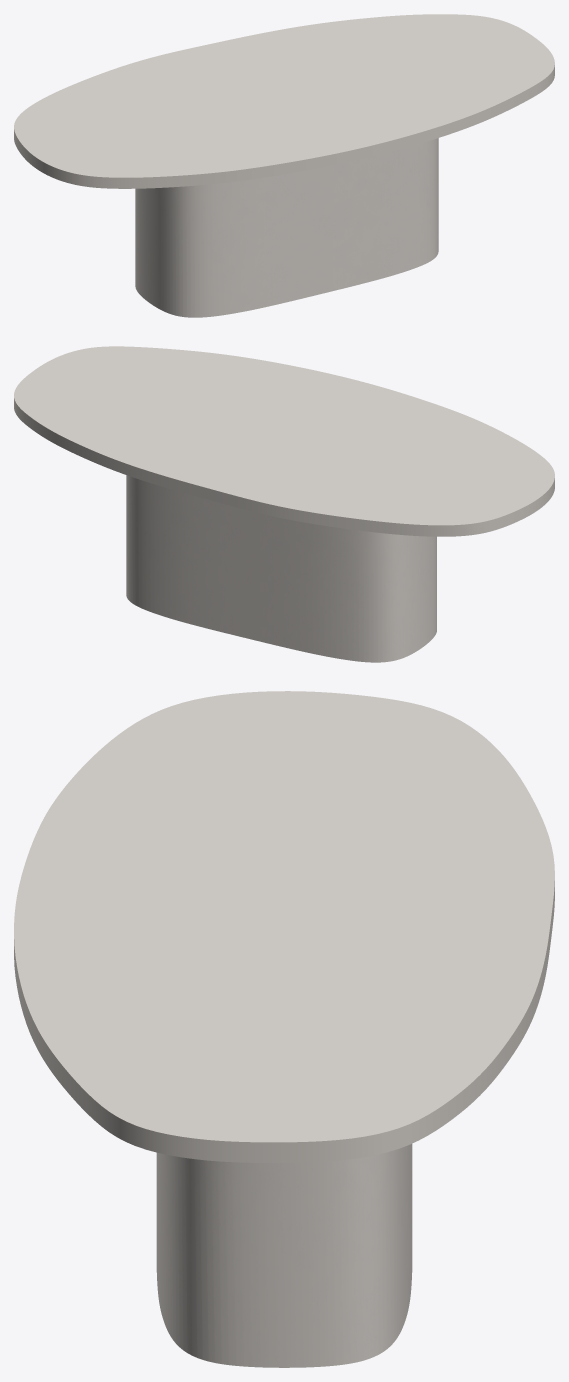
The model's file is pearlwhite_danish_standard_fixed.glb.
3 views of the same model, one above another, from view 1: azimuth 30°, elevation 25°; view 2: azimuth 150°, elevation 25°; view 3: azimuth 270°, elevation 25° (orthographic). The views are drawn at different scales.
Parts seen in each view (by area): view 1: standard_danish, fixed; view 2: standard_danish, fixed; view 3: standard_danish, fixed.
Boxes of the visible parts, bbox=[...] form: standard_danish: bbox=[14, 14, 554, 188]; fixed: bbox=[135, 138, 438, 317]; standard_danish: bbox=[14, 346, 554, 536]; fixed: bbox=[126, 475, 436, 662]; standard_danish: bbox=[14, 691, 554, 1162]; fixed: bbox=[156, 1144, 412, 1367].
Bounding box in the file's own units: 7.5 × 2.5 × 3.8.
1 material, 1 textured.
